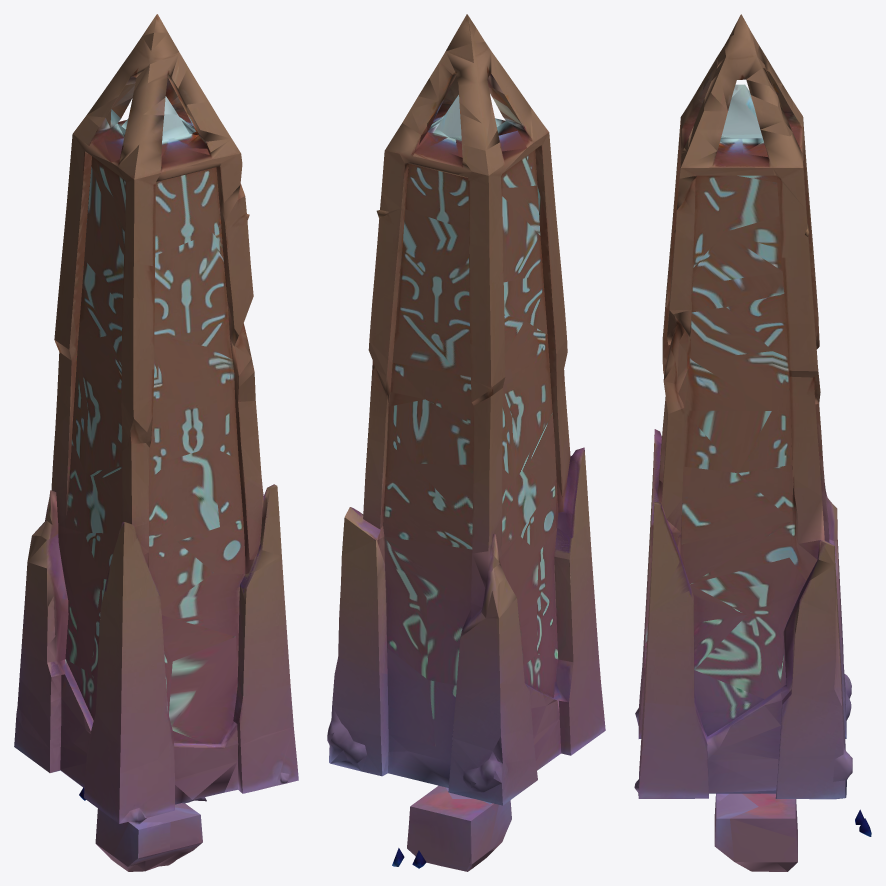
Rendered from obelisco.fbx.
3 views of the same model, side by side, from view 1: azimuth 30°, elevation 25°; view 2: azimuth 150°, elevation 25°; view 3: azimuth 270°, elevation 25° (orthographic). The views are drawn at different scales.
Parts seen in each view (by area): view 1: tripo_node_0bf6a27e; view 2: tripo_node_0bf6a27e; view 3: tripo_node_0bf6a27e.
Boxes of the visible parts, box(x1,y1,x2,y2) form: tripo_node_0bf6a27e: box(14, 14, 298, 871); tripo_node_0bf6a27e: box(327, 14, 605, 871); tripo_node_0bf6a27e: box(634, 14, 871, 871).
Bounding box in the file's own units: 21.99 × 100 × 25.38.
